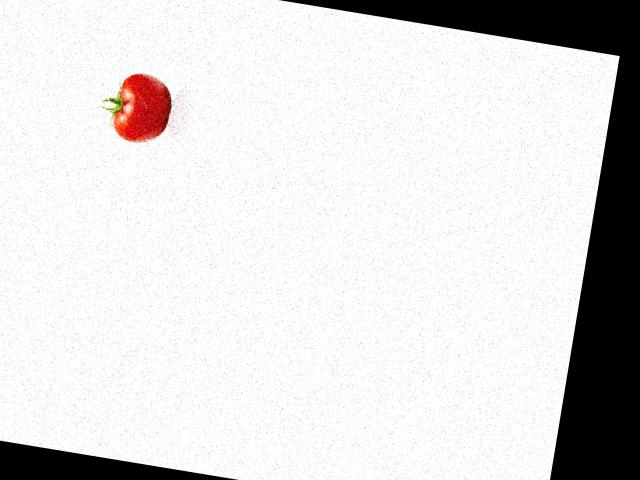tomato: (110, 68, 175, 147)
